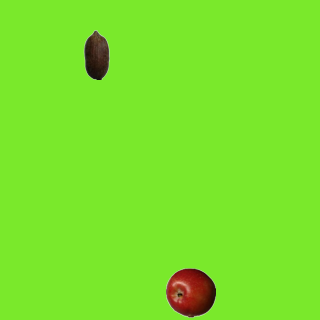Apple Braeburn: (165, 267, 215, 317)
Nut Pecan: (71, 29, 121, 79)
